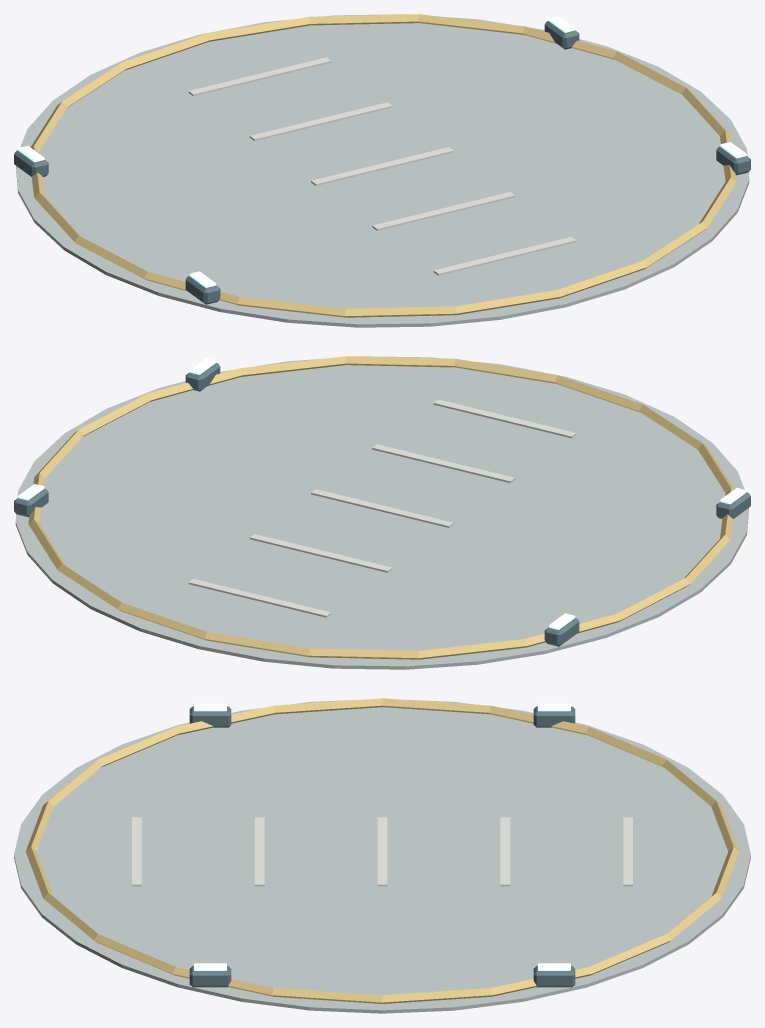
Rendered from complex.glb.
3 renders of one model, top to bottom at view 1: azimuth 30°, elevation 25°; view 2: azimuth 150°, elevation 25°; view 3: azimuth 270°, elevation 25°, orthographic.
Parts seen in each view (by area): view 1: pad, landing_circle, asset_complex__FP_Ivory, asset_complex__FP_Armour, asset_complex__FP_Signal; view 2: pad, landing_circle, asset_complex__FP_Ivory, asset_complex__FP_Armour, asset_complex__FP_Signal; view 3: pad, landing_circle, asset_complex__FP_Ivory, asset_complex__FP_Armour, asset_complex__FP_Signal.
Boxes of the visible parts, x1=… form: pad: x1=16, y1=14, x2=749, y2=327; landing_circle: x1=30, y1=14, x2=736, y2=317; asset_complex__FP_Ivory: x1=188, y1=57, x2=576, y2=275; asset_complex__FP_Armour: x1=14, y1=21, x2=750, y2=304; asset_complex__FP_Signal: x1=18, y1=16, x2=746, y2=287; pad: x1=15, y1=356, x2=748, y2=669; landing_circle: x1=28, y1=356, x2=734, y2=659; asset_complex__FP_Ivory: x1=188, y1=399, x2=576, y2=617; asset_complex__FP_Armour: x1=14, y1=363, x2=750, y2=646; asset_complex__FP_Signal: x1=18, y1=358, x2=746, y2=629; pad: x1=14, y1=699, x2=750, y2=1013; landing_circle: x1=25, y1=698, x2=739, y2=1003; asset_complex__FP_Ivory: x1=132, y1=817, x2=632, y2=886; asset_complex__FP_Armour: x1=189, y1=706, x2=575, y2=987; asset_complex__FP_Signal: x1=194, y1=703, x2=570, y2=970.
Bounding box in the file's own units: 6 × 0.1975 × 6.
